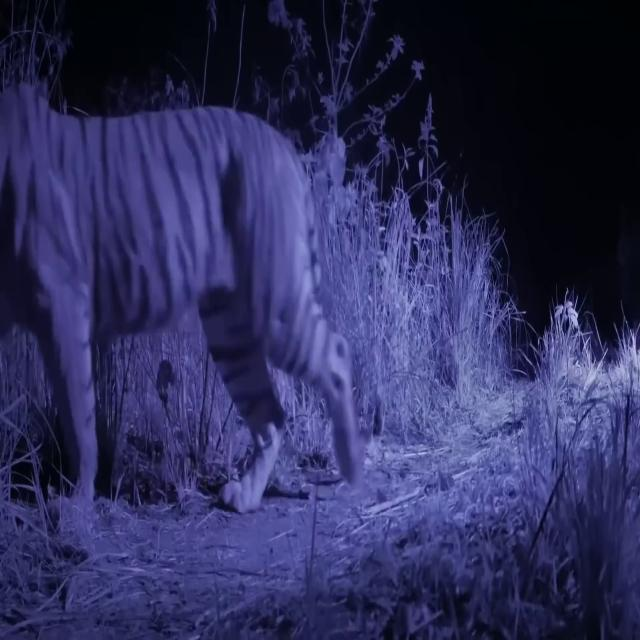tiger: (0, 82, 362, 517)
